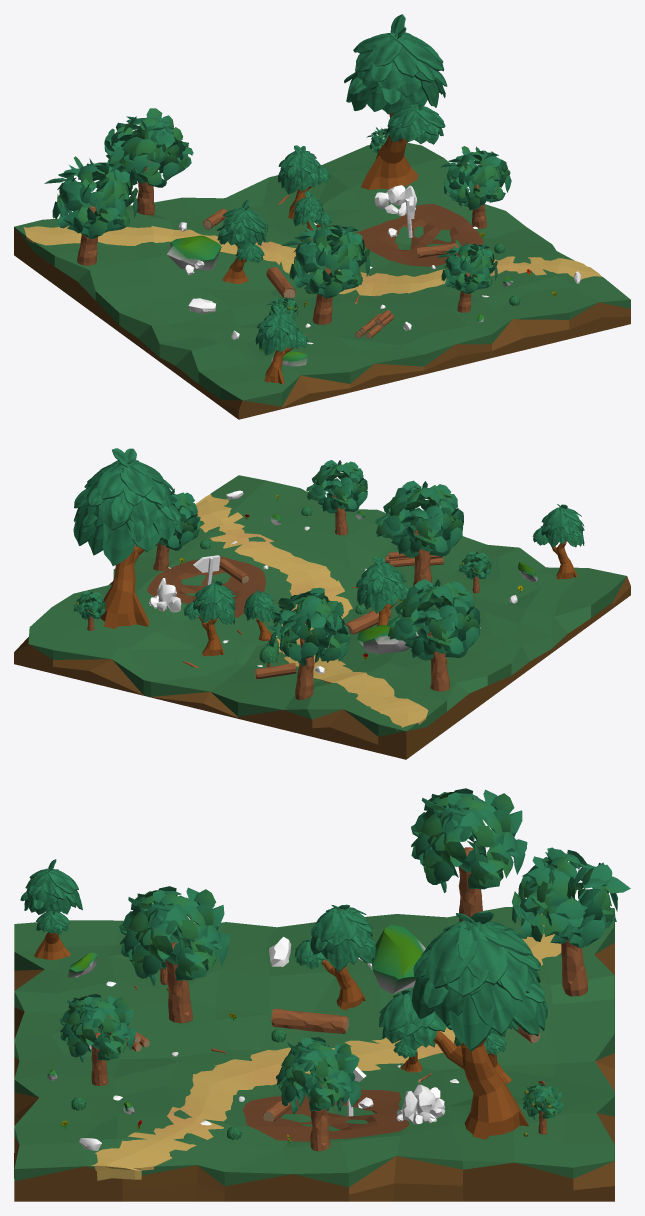
The model's file is FlorestaBrumas.fbx.
The picture shows the model from 3 angles, top to bottom: view 1: azimuth 30°, elevation 25°; view 2: azimuth 150°, elevation 25°; view 3: azimuth 270°, elevation 25°; orthographic projection. The views are drawn at different scales.
Parts seen in each view (by area): view 1: Water.003, Arvore.095, Arvore.103, Arvore.099, Arvore.097, Arvore.105, Arvore.081, Arvore.101, Arvore.074, Arvore.079, PedrasUnidadesMusgo.012, Arvore.106 (+2 smaller); view 2: Water.003, Arvore.095, Arvore.103, Arvore.097, Arvore.099, Arvore.101, Arvore.081, Arvore.079, Arvore.074, Arvore.105, PedrasUnidadesMusgo.012, Arvore.106 (+8 smaller); view 3: Water.003, Arvore.095, Arvore.103, Arvore.099, Arvore.097, Arvore.105, Arvore.081, Arvore.101, Arvore.074, PedrasUnidadesMusgo.012, Cylinder.003, Pedras.006 (+6 smaller).
Part boxes in pixels (x1,y1,x2,y2): Water.003: [14, 142, 630, 419]; Arvore.095: [344, 14, 447, 189]; Arvore.103: [44, 156, 137, 238]; Arvore.099: [104, 108, 193, 187]; Arvore.097: [281, 219, 369, 298]; Arvore.105: [440, 146, 511, 210]; Arvore.081: [217, 200, 266, 283]; Arvore.101: [436, 240, 497, 294]; Arvore.074: [255, 306, 308, 384]; Arvore.079: [278, 145, 330, 218]; PedrasUnidadesMusgo.012: [167, 235, 221, 270]; Arvore.106: [292, 191, 331, 245]; Water.003: [14, 475, 630, 759]; Arvore.095: [73, 448, 182, 628]; Arvore.103: [387, 579, 480, 660]; Arvore.097: [375, 480, 463, 557]; Arvore.099: [267, 587, 350, 666]; Arvore.101: [306, 460, 367, 513]; Arvore.081: [356, 557, 408, 626]; Arvore.079: [184, 579, 236, 656]; Arvore.074: [532, 504, 584, 579]; Arvore.105: [155, 488, 200, 550]; PedrasUnidadesMusgo.012: [357, 625, 418, 653]; Arvore.106: [243, 589, 277, 641]; Water.003: [14, 907, 615, 1201]; Arvore.095: [379, 911, 547, 1139]; Arvore.103: [411, 788, 527, 892]; Arvore.099: [512, 847, 630, 947]; Arvore.097: [119, 886, 229, 985]; Arvore.105: [276, 1037, 361, 1113]; Arvore.081: [294, 904, 376, 1010]; Arvore.101: [60, 994, 136, 1062]; Arvore.074: [20, 859, 82, 959]; PedrasUnidadesMusgo.012: [371, 925, 425, 993]; Cylinder.003: [271, 1008, 348, 1033]; Pedras.006: [396, 1084, 445, 1124].
Size of the model in its own units: 1545 by 695 by 1511.
